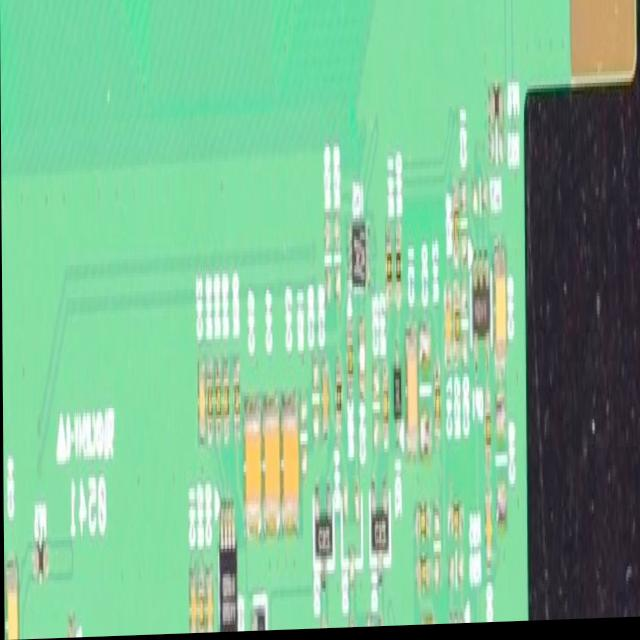IC: (217, 499, 237, 634), (346, 215, 371, 301)
capacitor: (260, 401, 282, 546), (242, 404, 261, 546), (280, 406, 300, 534), (494, 394, 509, 535), (419, 319, 432, 469), (492, 262, 508, 372), (404, 323, 416, 458), (3, 561, 19, 640), (197, 355, 206, 454), (357, 318, 367, 405), (371, 360, 380, 456), (320, 357, 330, 443), (459, 190, 469, 276), (460, 280, 469, 374), (443, 290, 453, 374), (312, 354, 320, 446), (187, 569, 196, 635), (205, 565, 213, 634), (66, 613, 74, 638), (420, 620, 436, 628), (348, 619, 354, 630), (365, 622, 374, 629), (375, 625, 384, 629), (320, 627, 327, 631)
resistor: (446, 498, 465, 555), (344, 311, 355, 406), (483, 477, 493, 579), (298, 393, 308, 487), (384, 218, 393, 314), (333, 361, 343, 446), (231, 351, 240, 445), (414, 553, 432, 599), (333, 210, 341, 309), (447, 553, 464, 598), (452, 188, 461, 273), (381, 364, 389, 459), (394, 223, 402, 318), (206, 353, 213, 457), (433, 358, 441, 446), (221, 361, 229, 446), (483, 396, 492, 471), (213, 368, 221, 449), (488, 135, 506, 170), (453, 288, 460, 367), (325, 213, 331, 305), (414, 509, 429, 545), (196, 565, 203, 634)
transistor: (470, 249, 491, 377), (444, 609, 465, 627)
